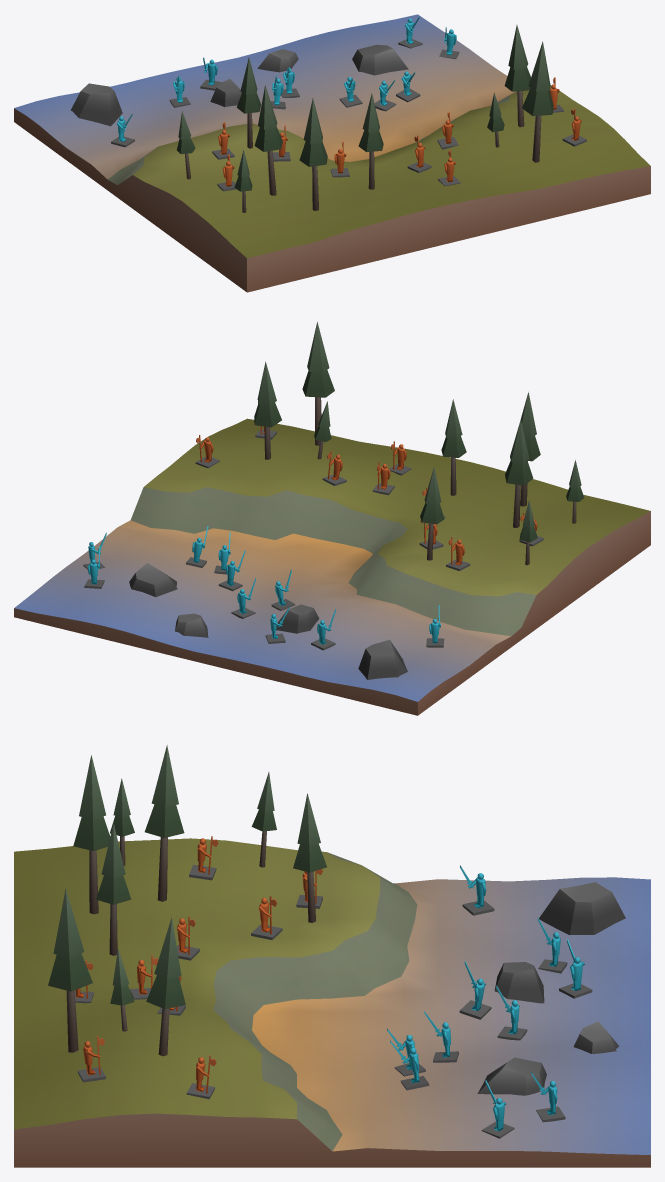
File: OBJ_MedievalBattleModel.fbx
The picture shows the model from 3 angles, top to bottom: view 1: azimuth 30°, elevation 25°; view 2: azimuth 150°, elevation 25°; view 3: azimuth 270°, elevation 25°; orthographic projection. The views are drawn at different scales.
Parts seen in each view (by area): view 1: OBJ_MedievalBattleModel; view 2: OBJ_MedievalBattleModel; view 3: OBJ_MedievalBattleModel.
Part boxes in pixels (box(x1,y1,x2,y2)): OBJ_MedievalBattleModel: box(14, 14, 650, 292); OBJ_MedievalBattleModel: box(14, 322, 650, 715); OBJ_MedievalBattleModel: box(14, 745, 650, 1167).
Size of the model in its own units: 165 by 62.94 by 165.
